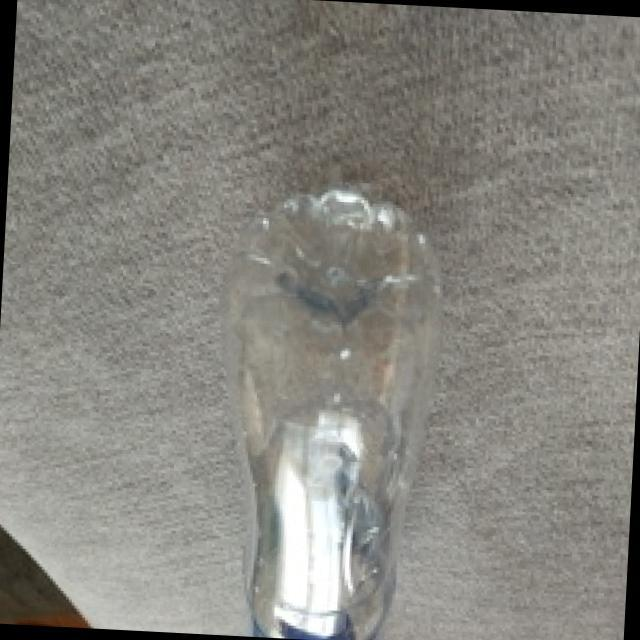good: (208, 159, 470, 640)
